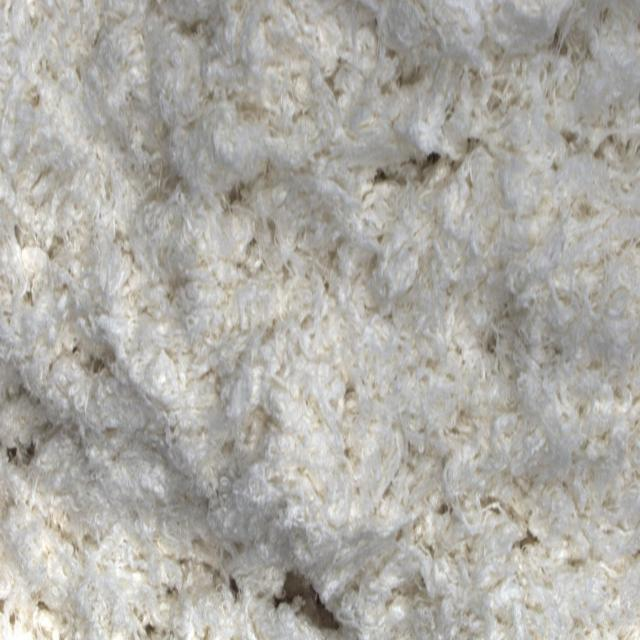dust: (268, 558, 394, 640)
